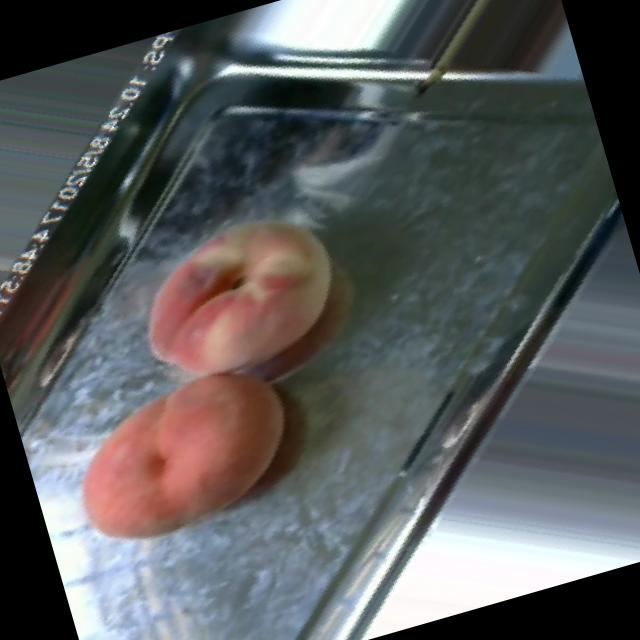Fruit: (100, 178, 380, 422), (41, 347, 325, 572)
